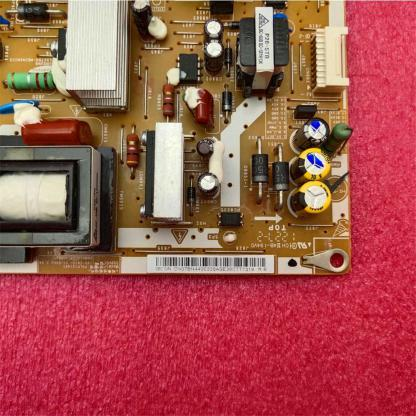Cap1: (287, 146, 339, 188)
Cap2: (283, 176, 339, 219)
Cap3: (200, 40, 231, 81), (127, 0, 159, 39), (195, 172, 222, 202), (198, 15, 228, 40), (194, 137, 215, 159)
Cap4: (290, 115, 336, 151)
MOSFET: (175, 47, 201, 89), (174, 48, 203, 83)
Resistor: (0, 70, 64, 91), (124, 122, 143, 183), (159, 76, 178, 120)
Transformer: (0, 141, 121, 258), (233, 4, 294, 99)
